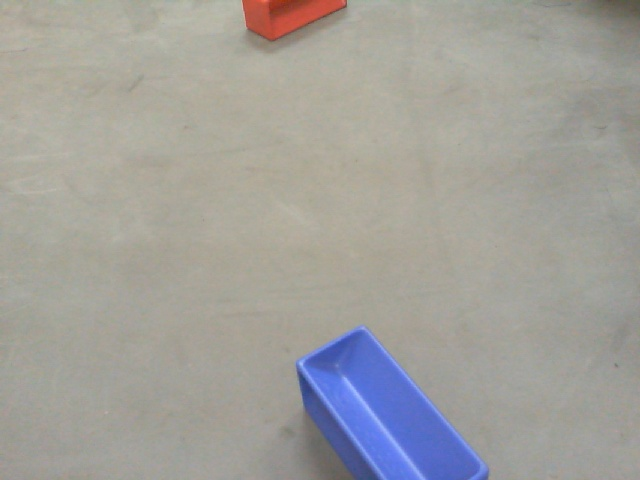BlueSample: (292, 322, 490, 480)
RedSample: (234, 1, 350, 42)
